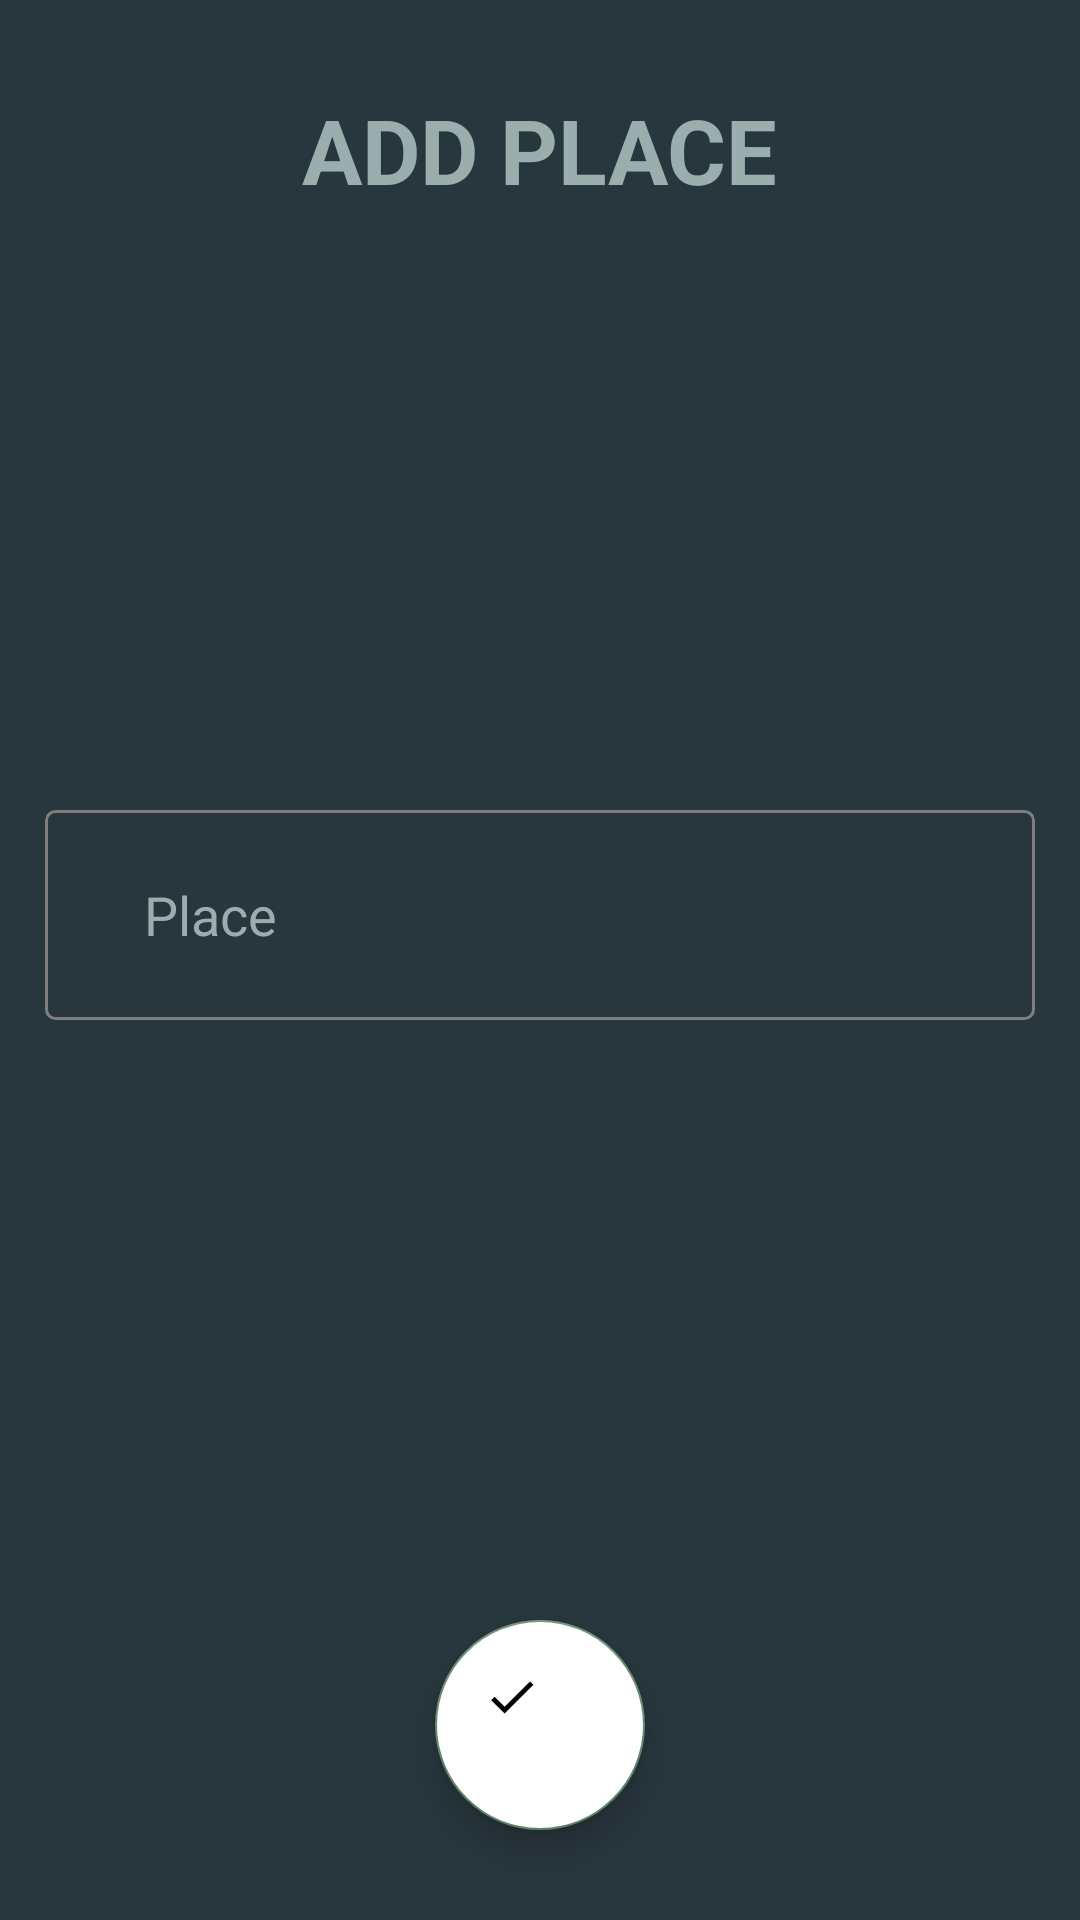

Where to tap for icons on this 1080x1920 app screen, as point (x, y):
check: point (540, 1725)
